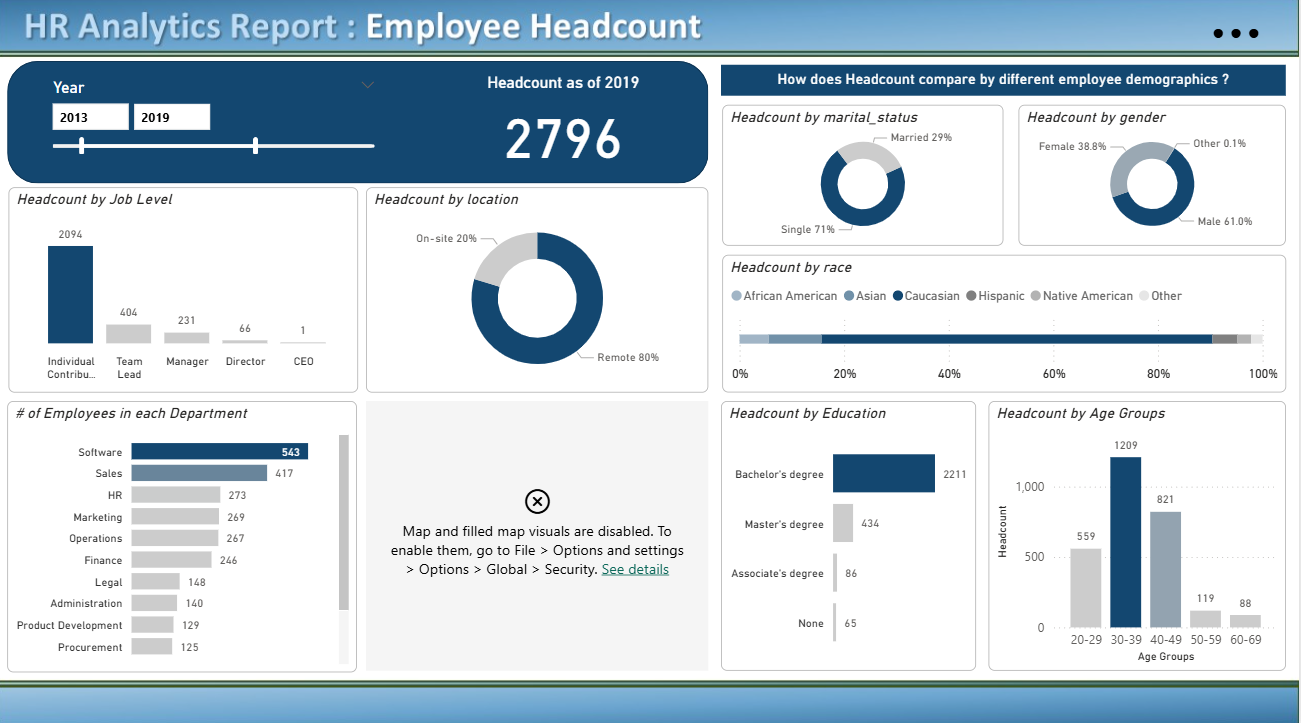

Layout of this report page (visuals, bound fields, positions):
{"tool":"powerbi","page":{"name":"Headcount","canvas":[1280,720],"ordinal":2},"visuals":[{"type":"shape","box":[11,63.8,688.3,120.2],"z":1000},{"type":"card","fields":{"Values":["_Measures.Headcount"]},"box":[458.6,75.7,195.7,95.7],"z":2000},{"type":"clusteredBarChart","title":"# of Employees in each Department","fields":{"Category":["Department_Dim.department"],"Y":["_Measures.Headcount"]},"box":[11,397.5,343.6,266.3],"z":3000},{"type":"clusteredColumnChart","title":"Headcount by Job Level","fields":{"Category":["Job_level_Dim.job_level"],"Y":["_Measures.Headcount"]},"box":[12.3,187.7,343.6,201.2],"z":4000},{"type":"map","title":"# of Employees in each Location","fields":{"Size":["_Measures.Headcount"],"Category":["Location_Dim.location_city"]},"box":[363.2,397.5,336.2,265],"z":5000},{"type":"donutChart","fields":{"Category":["Marital_Dim.marital_status"],"Y":["_Measures.Headcount"]},"box":[712.9,106.7,276.1,138.7],"z":6000},{"type":"columnChart","fields":{"Y":["_Measures.Headcount"],"Category":["Demographic_Dim.Age Groups"]},"box":[974.2,397.5,292,265],"z":7000},{"type":"donutChart","fields":{"Y":["_Measures.Headcount"],"Category":["Demographic_Dim.gender"]},"box":[1003.7,106.7,262.6,138.7],"z":8000},{"type":"clusteredBarChart","title":"Headcount by Education","fields":{"Category":["Education_Dim.education"],"Y":["_Measures.Headcount"]},"box":[711.7,397.5,250.3,265],"z":9000},{"type":"donutChart","fields":{"Category":["Location_Dim.location"],"Y":["_Measures.Headcount"]},"box":[363.2,187.7,336.2,201.2],"z":10000},{"type":"hundredPercentStackedBarChart","fields":{"Series":["Demographic_Dim.race"],"Y":["_Measures.Headcount"]},"box":[712.9,254,553.4,135],"z":11000},{"type":"slicer","fields":{"Values":["Date.Year"]},"box":[42.9,75.7,341.4,95.7],"z":12000},{"type":"textbox","box":[711.7,67.5,554.6,30.7],"z":13000},{"type":"actionButton","box":[1167.2,0,99.6,51.9],"z":14000},{"type":"group","title":"Slicer Panel","box":[937.7,52,339.9,624.5],"z":14500}]}

Visuals, with their boxes in screenshot pixels (x1, y1, x2, y2), scaled from the page's 1280x720 canvas onto the 1301x723 screenshot:
shape: crop(11, 64, 711, 185)
card - _Measures.Headcount: crop(466, 76, 665, 172)
"# of Employees in each Department" clusteredBarChart: crop(11, 399, 360, 667)
"Headcount by Job Level" clusteredColumnChart: crop(13, 188, 362, 391)
"# of Employees in each Location" map: crop(369, 399, 711, 665)
donutChart - Marital_Dim.marital_status x _Measures.Headcount: crop(725, 107, 1005, 246)
columnChart - _Measures.Headcount x Demographic_Dim.Age Groups: crop(990, 399, 1287, 665)
donutChart - _Measures.Headcount x Demographic_Dim.gender: crop(1020, 107, 1287, 246)
"Headcount by Education" clusteredBarChart: crop(723, 399, 978, 665)
donutChart - Location_Dim.location x _Measures.Headcount: crop(369, 188, 711, 391)
hundredPercentStackedBarChart - Demographic_Dim.race x _Measures.Headcount: crop(725, 255, 1287, 391)
slicer - Date.Year: crop(44, 76, 391, 172)
textbox: crop(723, 68, 1287, 99)
actionButton: crop(1186, 0, 1288, 52)
"Slicer Panel" group: crop(953, 52, 1299, 679)
